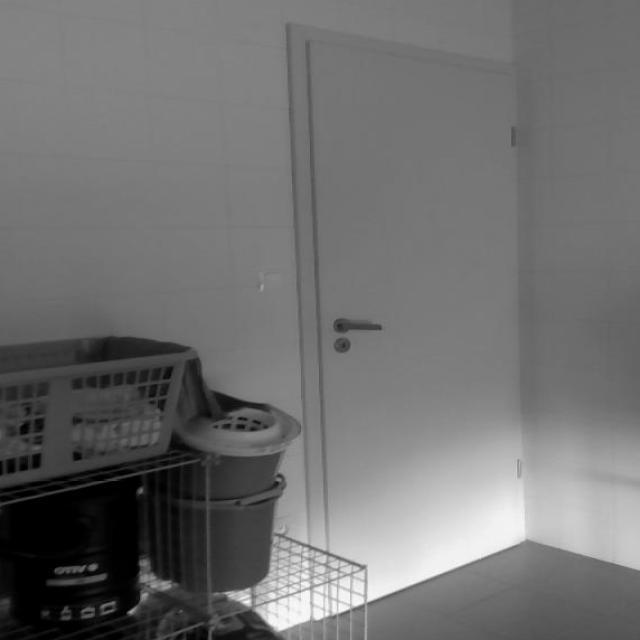door: (289, 22, 526, 610)
